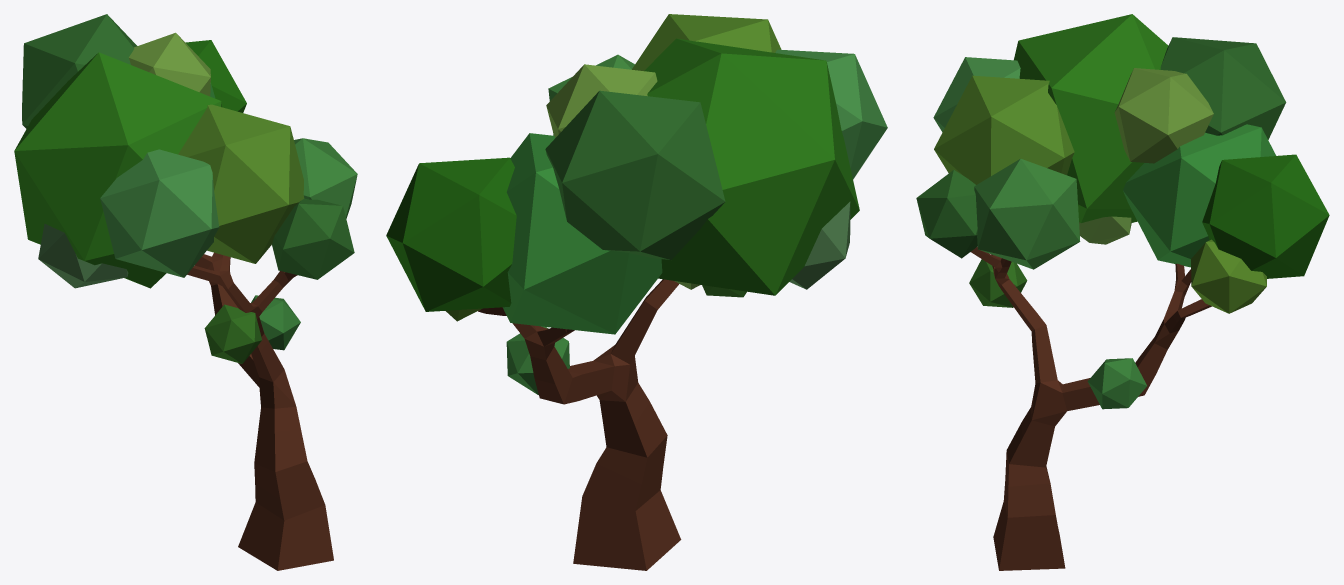
The model's file is Tree.fbx.
3 views of the same model, side by side, from view 1: azimuth 30°, elevation 25°; view 2: azimuth 150°, elevation 25°; view 3: azimuth 270°, elevation 25° (orthographic). The views are drawn at different scales.
Visible parts, largest first — view 1: Leafs, Trunk; view 2: Leafs, Trunk; view 3: Leafs, Trunk.
Part boxes in pixels (x1,y1,x2,y2): Leafs: (14,14,357,363); Trunk: (187,252,333,570); Leafs: (386,14,887,394); Trunk: (478,279,681,570); Leafs: (916,14,1329,409); Trunk: (971,247,1211,570).
Size of the model in its own units: 834 by 1320 by 1032.
